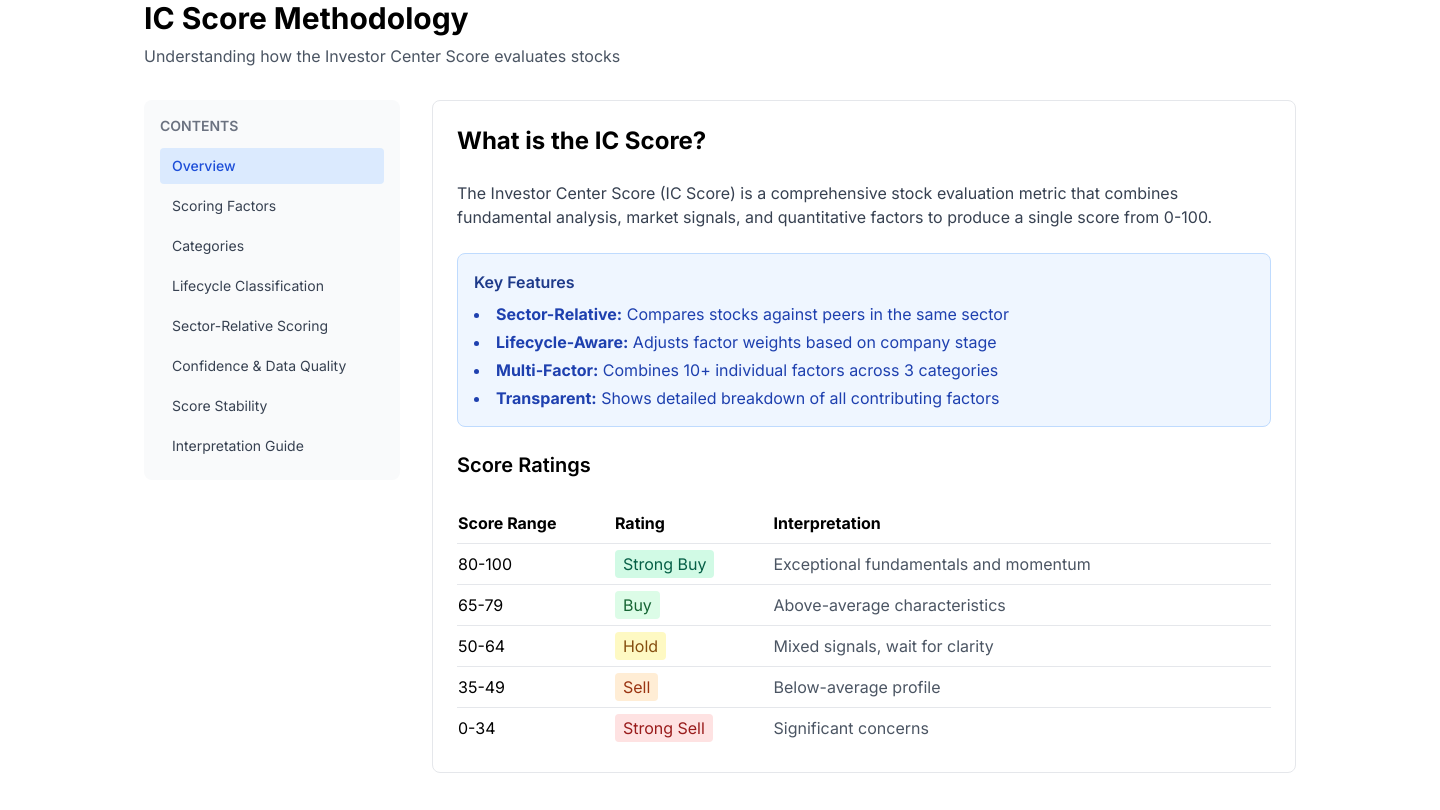
Test: ICScoreMethodology › switches to Lifecycle Classification section
The image size is (1440, 810).
Click the button "Lifecycle Classification": (272, 286) [160,268,384,304]
(page scrolled)
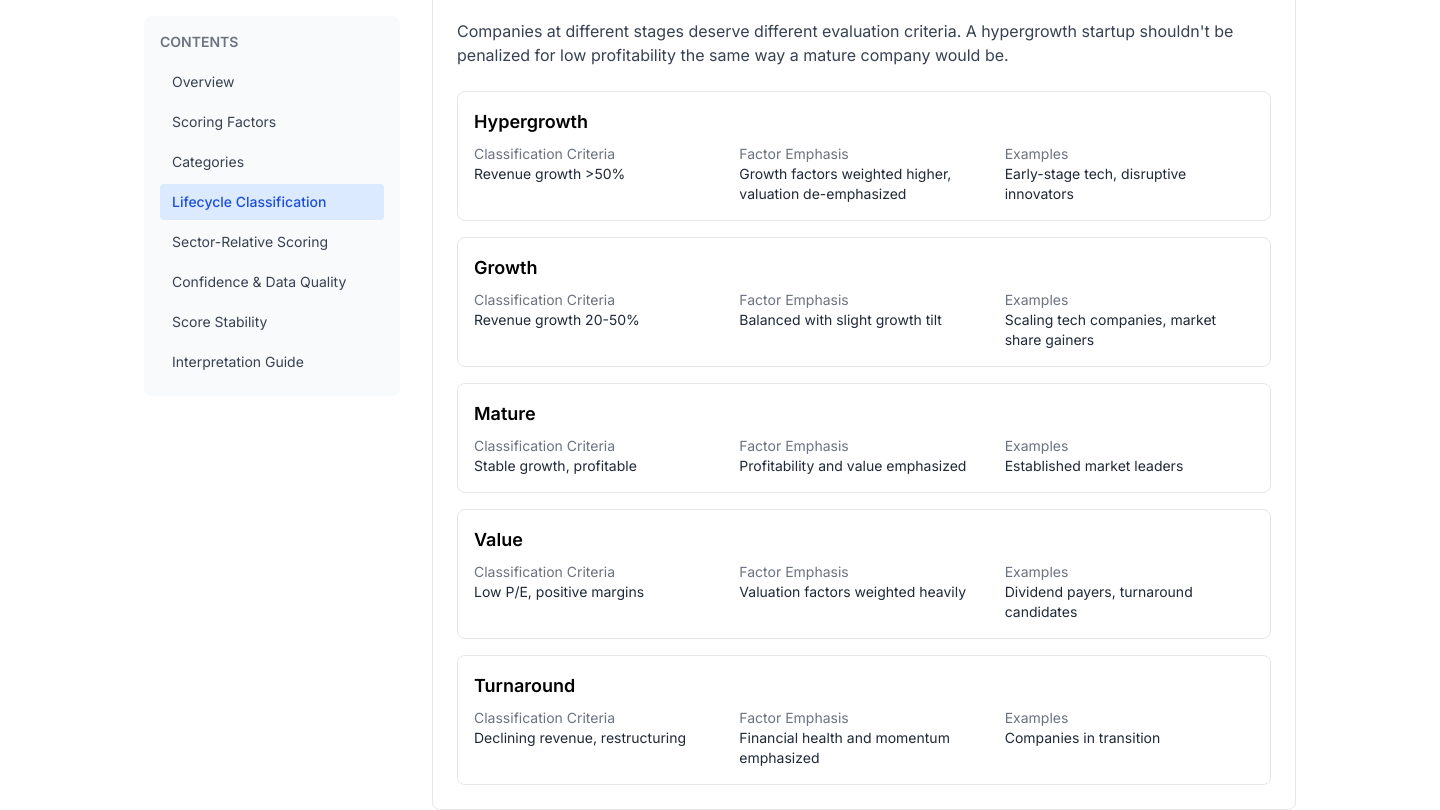
Check: the heading "Hypergrowth" is shown, box [474,111,588,132]
Check: the heading "Mature" is shown, box [474,403,536,424]
Check: the heading "Turnaround" is shown, box [474,675,575,696]
